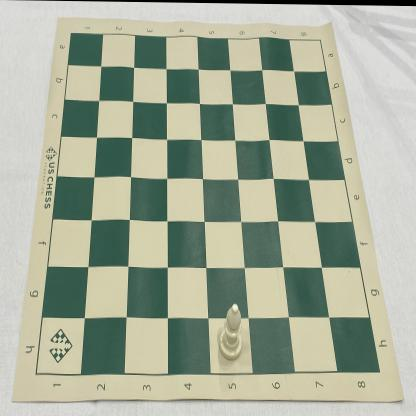white-bishop: (219, 303, 243, 361)
